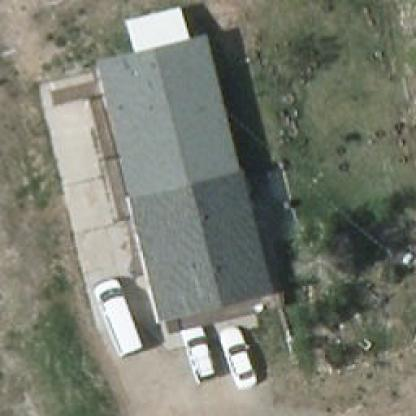car: (214, 325, 258, 390), (177, 325, 215, 380)
van: (91, 276, 143, 356)
